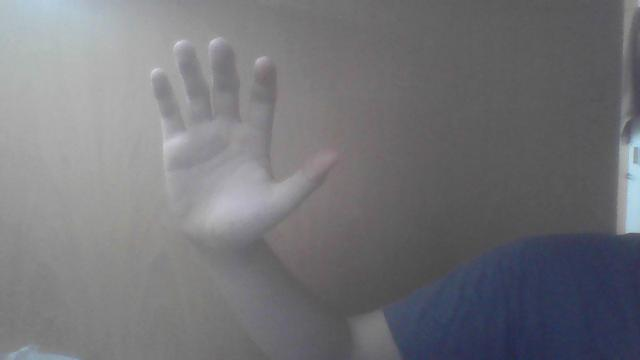Stop: (154, 38, 336, 250)
